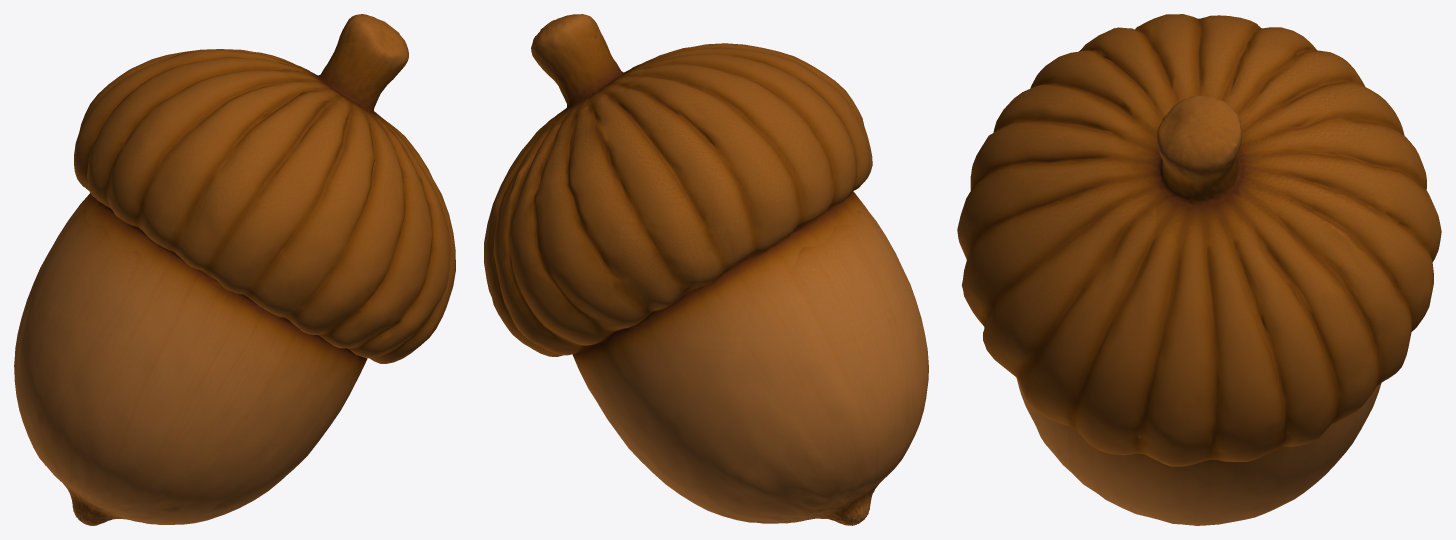
Rendered from mem_ac_acorn.fbx.
The picture shows the model from 3 angles, left to right: view 1: azimuth 30°, elevation 25°; view 2: azimuth 150°, elevation 25°; view 3: azimuth 270°, elevation 25°; orthographic projection. The views are drawn at different scales.
Parts seen in each view (by area): view 1: tripo_node_0ca852ab; view 2: tripo_node_0ca852ab; view 3: tripo_node_0ca852ab.
Boxes of the visible parts, left/top/right/bottom form: tripo_node_0ca852ab: left=14, top=14, right=455, bottom=525; tripo_node_0ca852ab: left=484, top=14, right=928, bottom=525; tripo_node_0ca852ab: left=957, top=14, right=1441, bottom=525.
Bounding box in the file's own units: 0.9238 × 0.998 × 0.8418.
